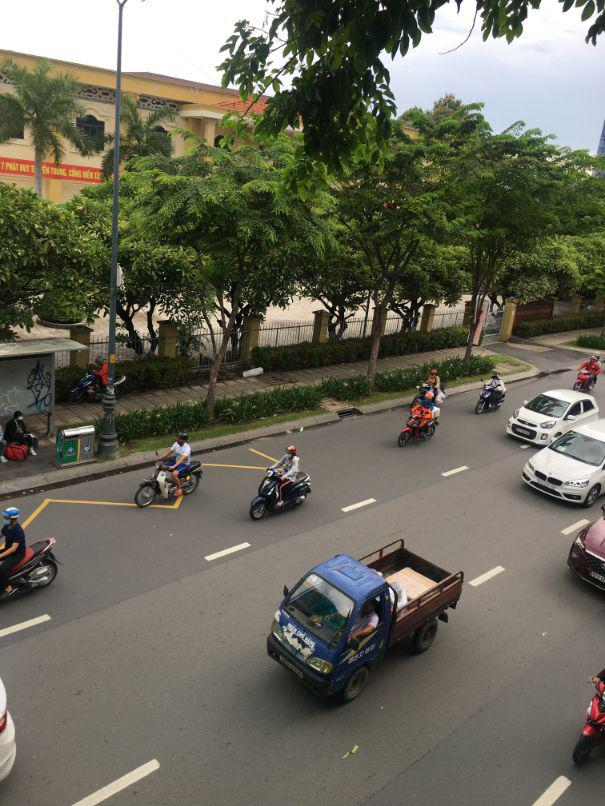car: (523, 427, 604, 509), (507, 387, 602, 445), (566, 501, 605, 610)
motorbike: (1, 534, 60, 610), (134, 457, 206, 510), (248, 461, 310, 520), (573, 675, 604, 769), (399, 402, 441, 445), (475, 380, 504, 411)
truck: (265, 542, 465, 707)
